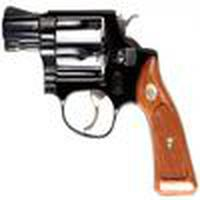gun: (4, 3, 198, 200)
